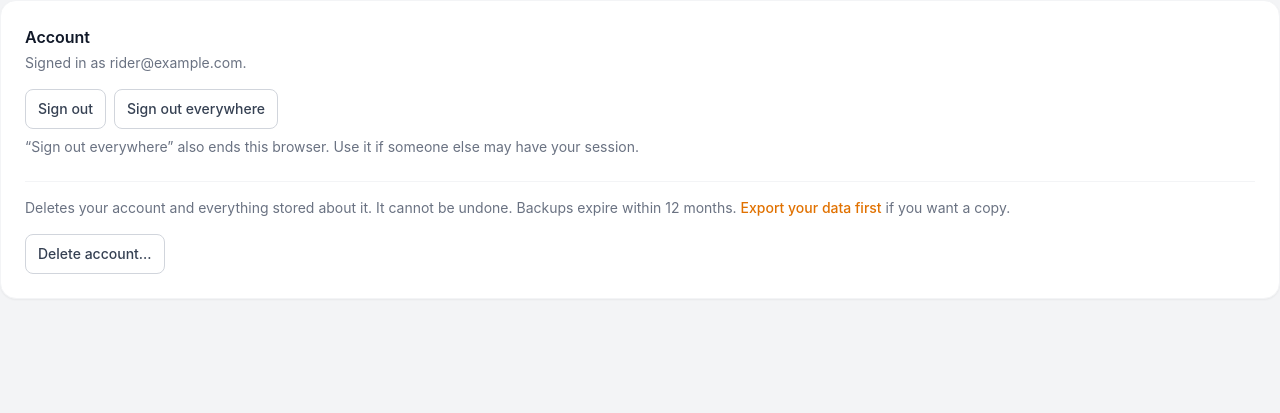
Scenario: AccountCard (ai-trainer-ops#310, #312) › asks for the password in the page, with no native confirm before it (#312)
Click the button "Delete account…" at x=95, y=254, box [25,234,165,274]
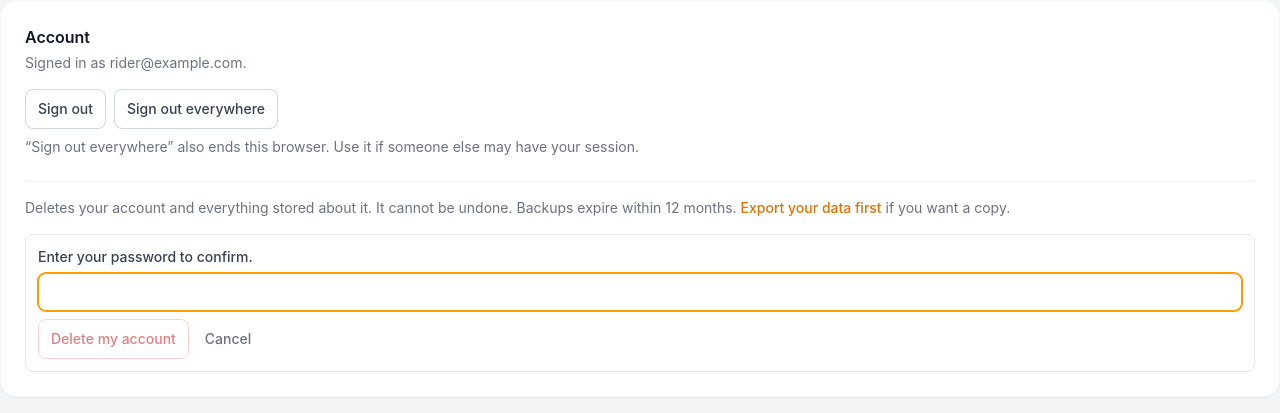
Now the button "Delete account…" is gone
